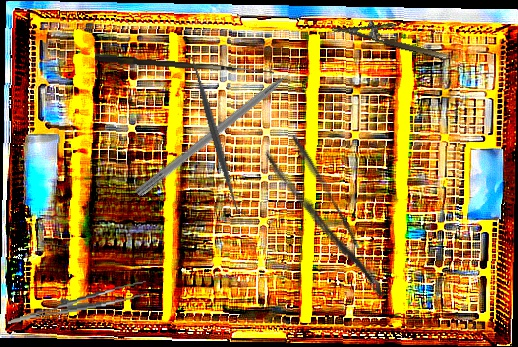Dressing Forceps: (262, 132, 390, 315)
Hook Surgical: (94, 53, 275, 74)
Needle Holder: (331, 8, 452, 62)
Pusher: (134, 56, 312, 200)
Spatula Surgical: (182, 50, 249, 221)
Tissue Forceps: (5, 281, 149, 324)
